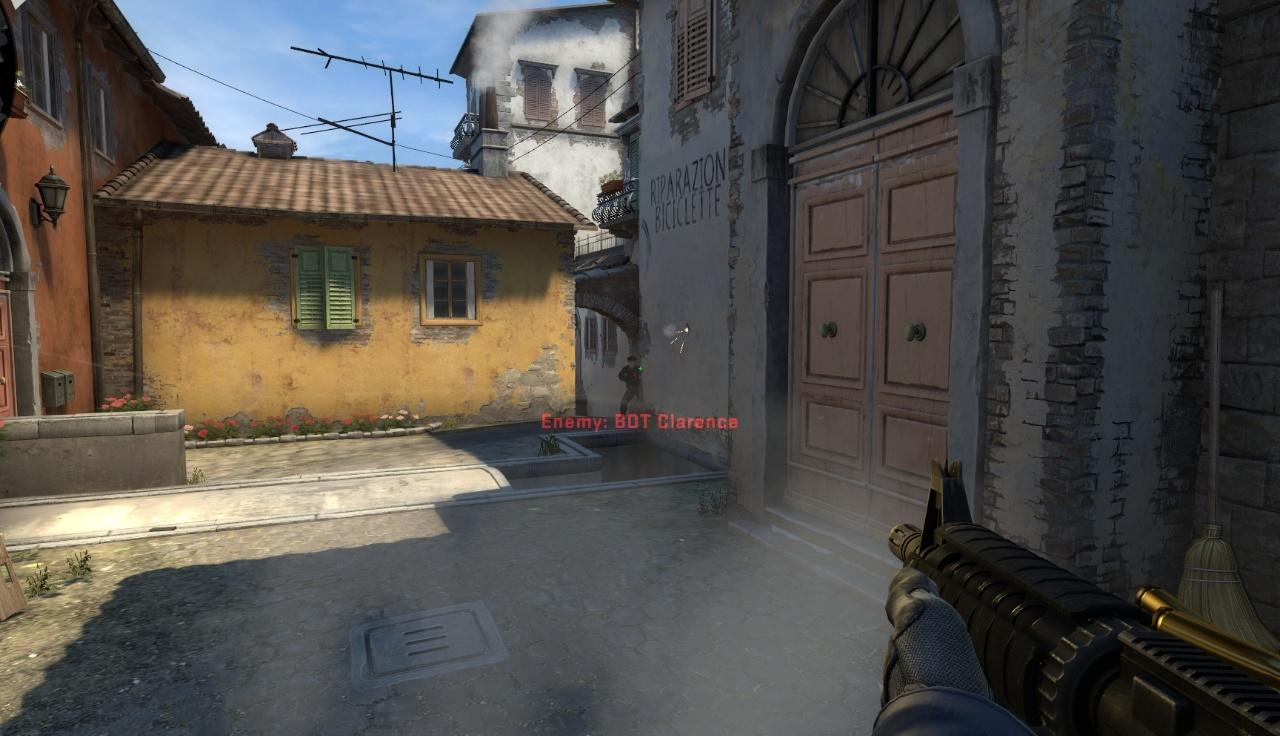rifle: (873, 463, 1280, 734)
tt: (618, 354, 644, 415)
tthead: (627, 356, 637, 369)
